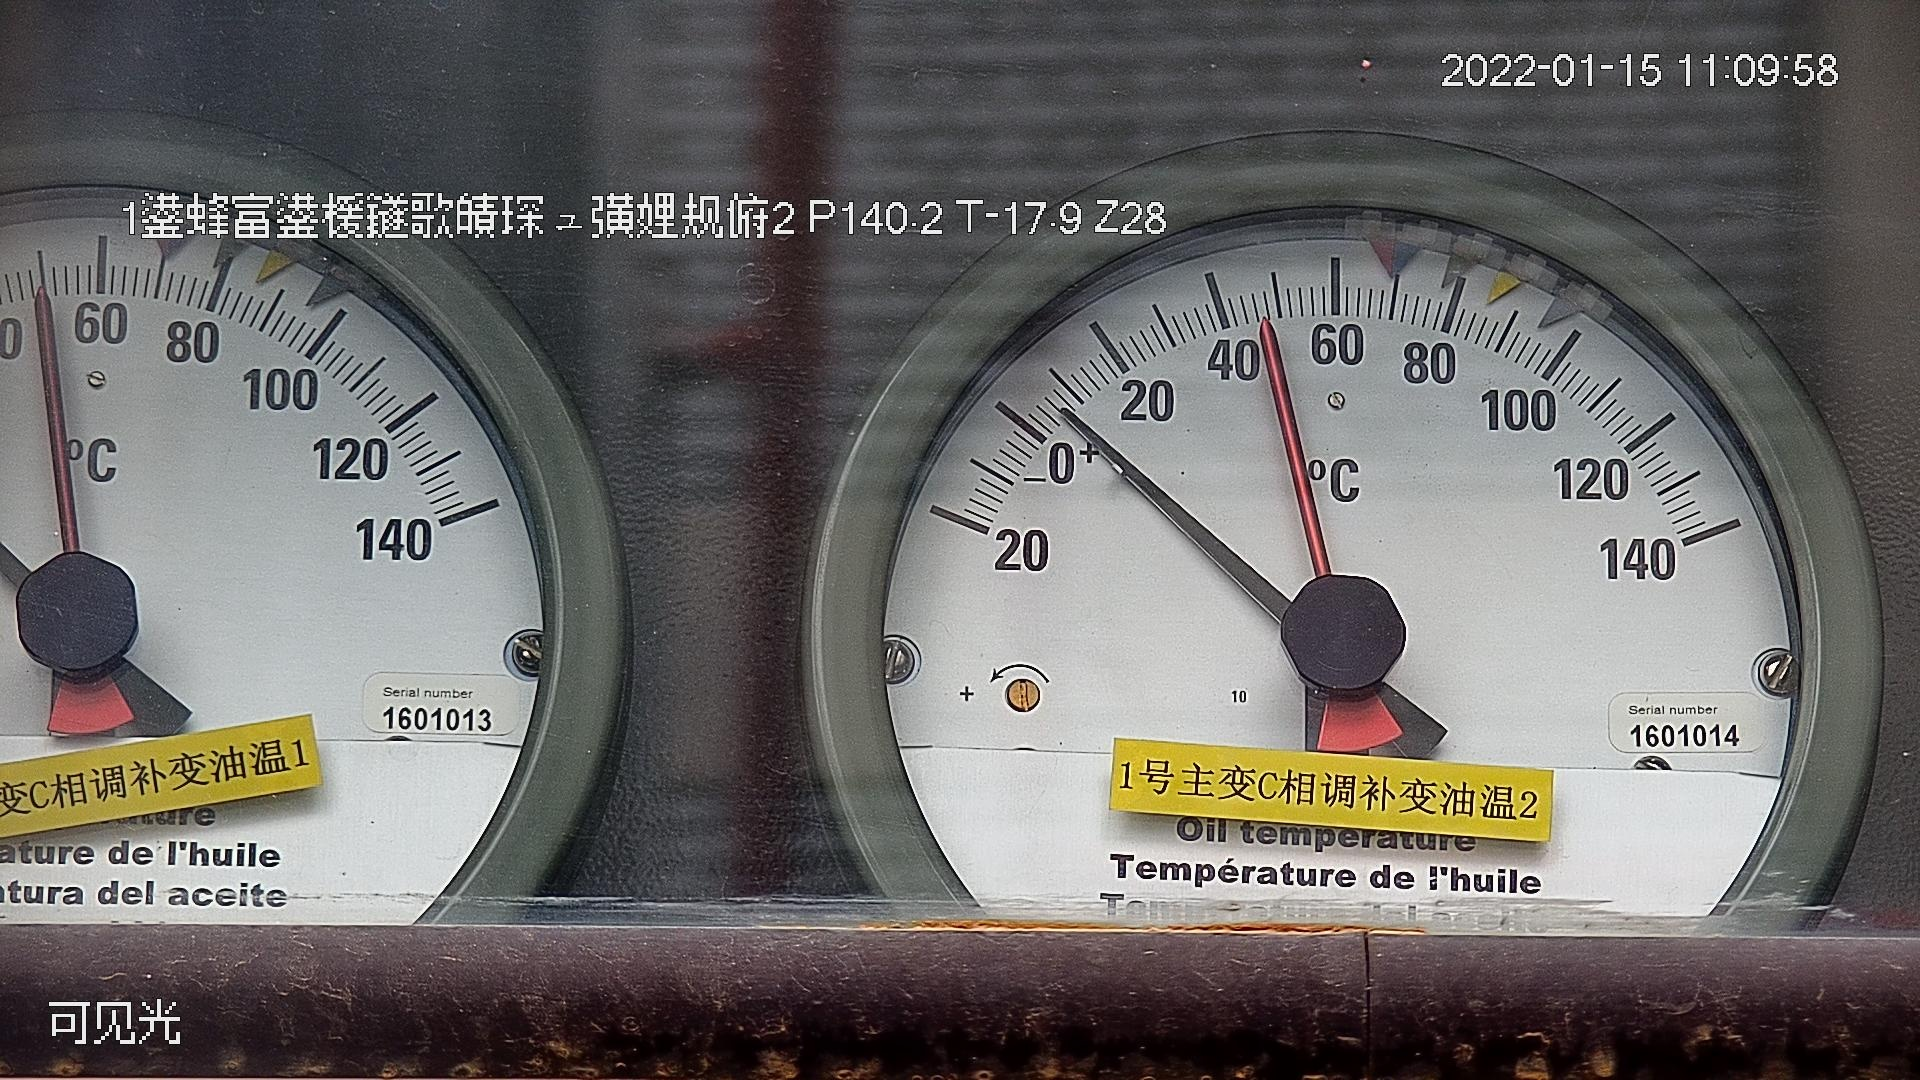yibiao: (858, 174, 1832, 940), (1, 156, 560, 942)
